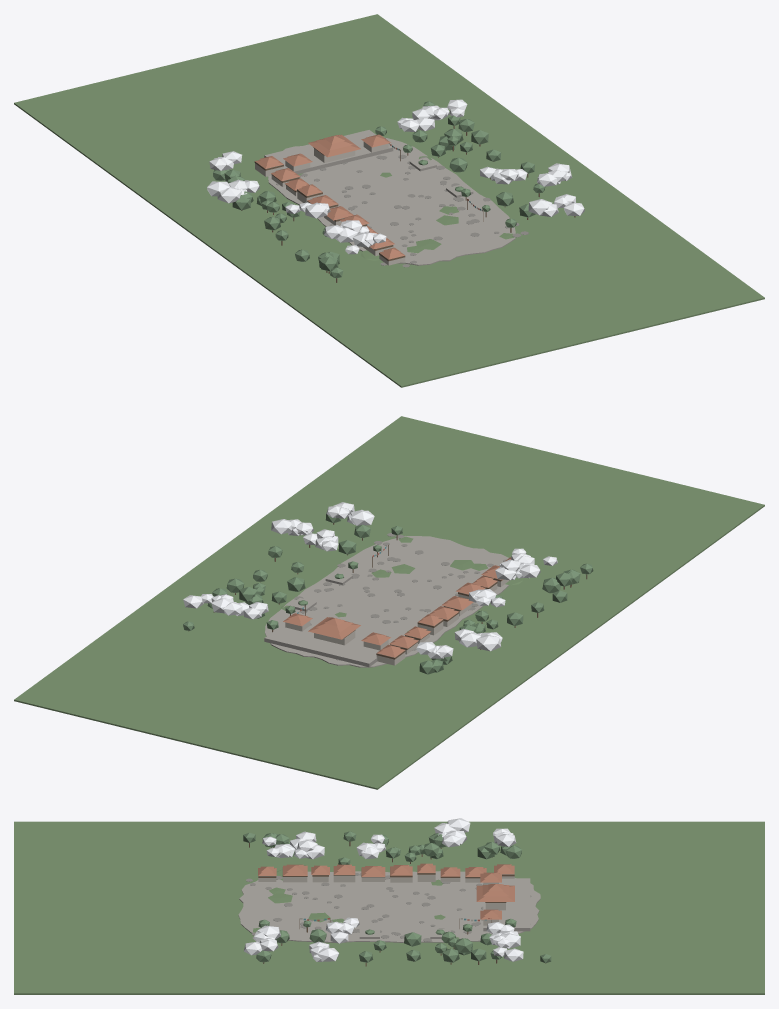
File: haven.glb
3 views of the same model, one above another, from view 1: azimuth 30°, elevation 25°; view 2: azimuth 150°, elevation 25°; view 3: azimuth 270°, elevation 25° (orthographic). The views are drawn at different scales.
Visible parts, largest first — view 1: Static, Cloud_03, Cloud_02, Cloud_00; view 2: Static, Cloud_02, Cloud_00, Cloud_03, Cloud_01; view 3: Static, Cloud_02, Cloud_03, Cloud_00, Cloud_01, Cloud_07, Cloud_08, Cloud_05, Cloud_04, Cloud_09, Cloud_06.
Boxes of the visible parts, x1=… form: Static: x1=14, y1=14, x2=764, y2=387; Cloud_03: x1=528, y1=194, x2=584, y2=216; Cloud_02: x1=207, y1=179, x2=259, y2=203; Cloud_00: x1=324, y1=220, x2=369, y2=242; Static: x1=14, y1=416, x2=764, y2=789; Cloud_02: x1=454, y1=628, x2=502, y2=651; Cloud_00: x1=495, y1=559, x2=540, y2=580; Cloud_03: x1=326, y1=502, x2=374, y2=525; Cloud_01: x1=183, y1=594, x2=233, y2=613; Static: x1=14, y1=821, x2=764, y2=994; Cloud_02: x1=434, y1=818, x2=470, y2=847; Cloud_03: x1=244, y1=925, x2=280, y2=955; Cloud_00: x1=289, y1=831, x2=324, y2=859; Cloud_01: x1=492, y1=933, x2=523, y2=961; Cloud_07: x1=326, y1=917, x2=359, y2=943; Cloud_08: x1=356, y1=834, x2=385, y2=858; Cloud_05: x1=309, y1=941, x2=338, y2=961; Cloud_04: x1=262, y1=836, x2=295, y2=857; Cloud_09: x1=486, y1=922, x2=518, y2=944; Cloud_06: x1=493, y1=828, x2=516, y2=846.
Bounding box in the file's own units: 52 × 4.44 × 96.
